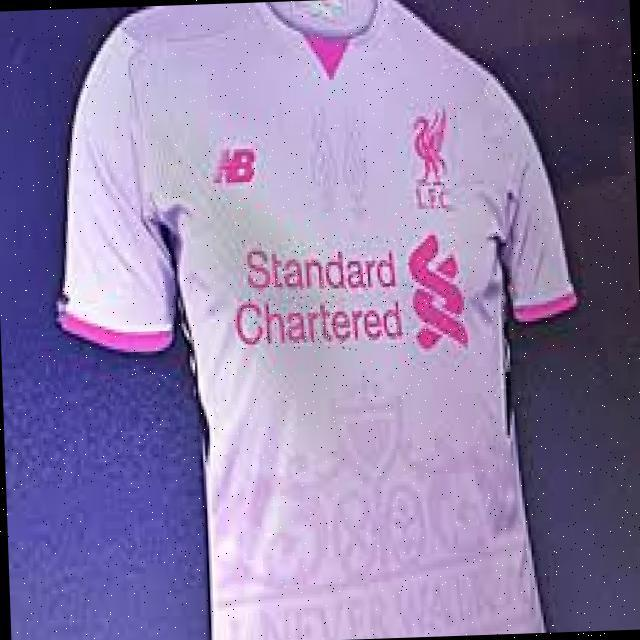Standard Chartered: (234, 233, 467, 355)
